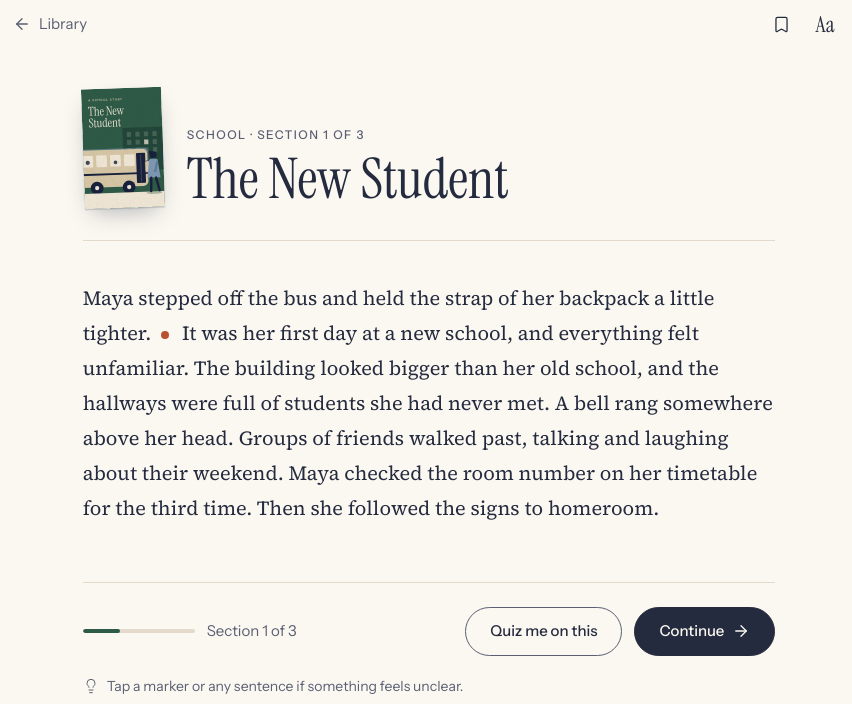
Test: reader › says honestly when the story does not tell us
The image size is (852, 704).
Click the button "Continue".
click(705, 631)  # box x1=634 y1=607 x2=775 y2=656
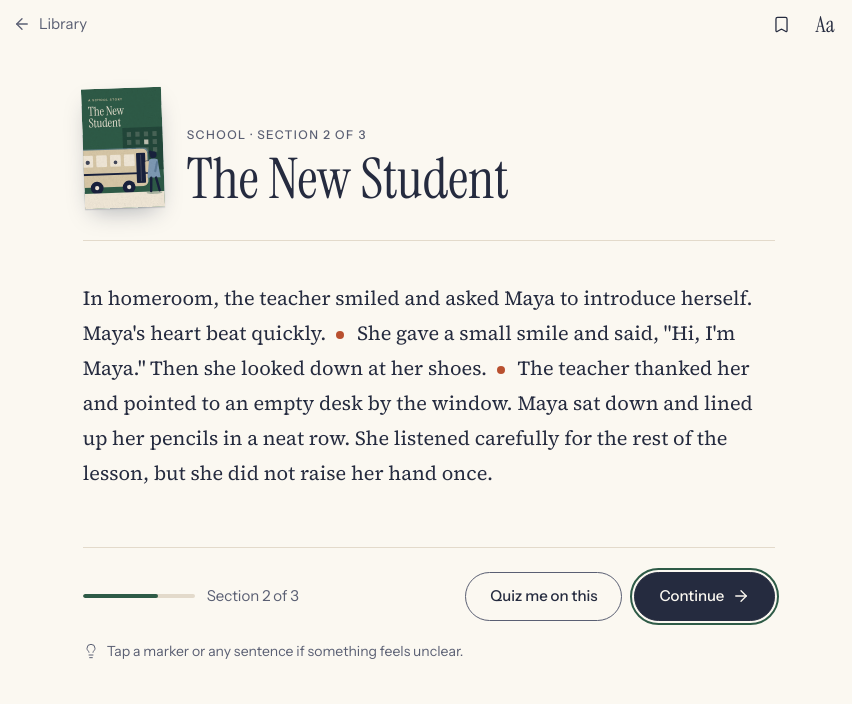
Click the 1st button named "Explain this sentence".
click(340, 335)  # box x1=328 y1=323 x2=352 y2=347
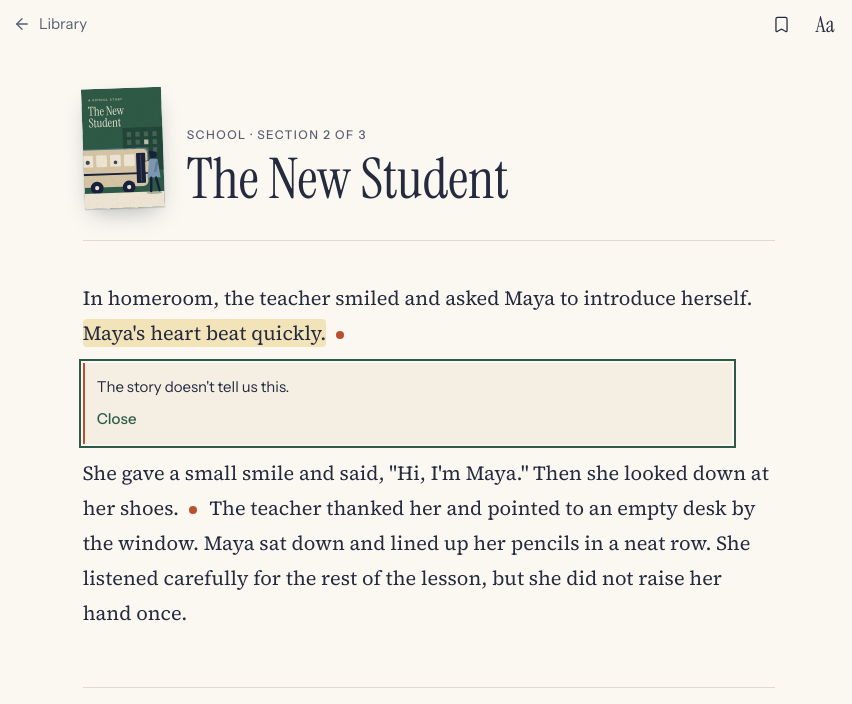
Result: the text "The story doesn't tell us this." is shown at x1=97 y1=377 x2=290 y2=396
